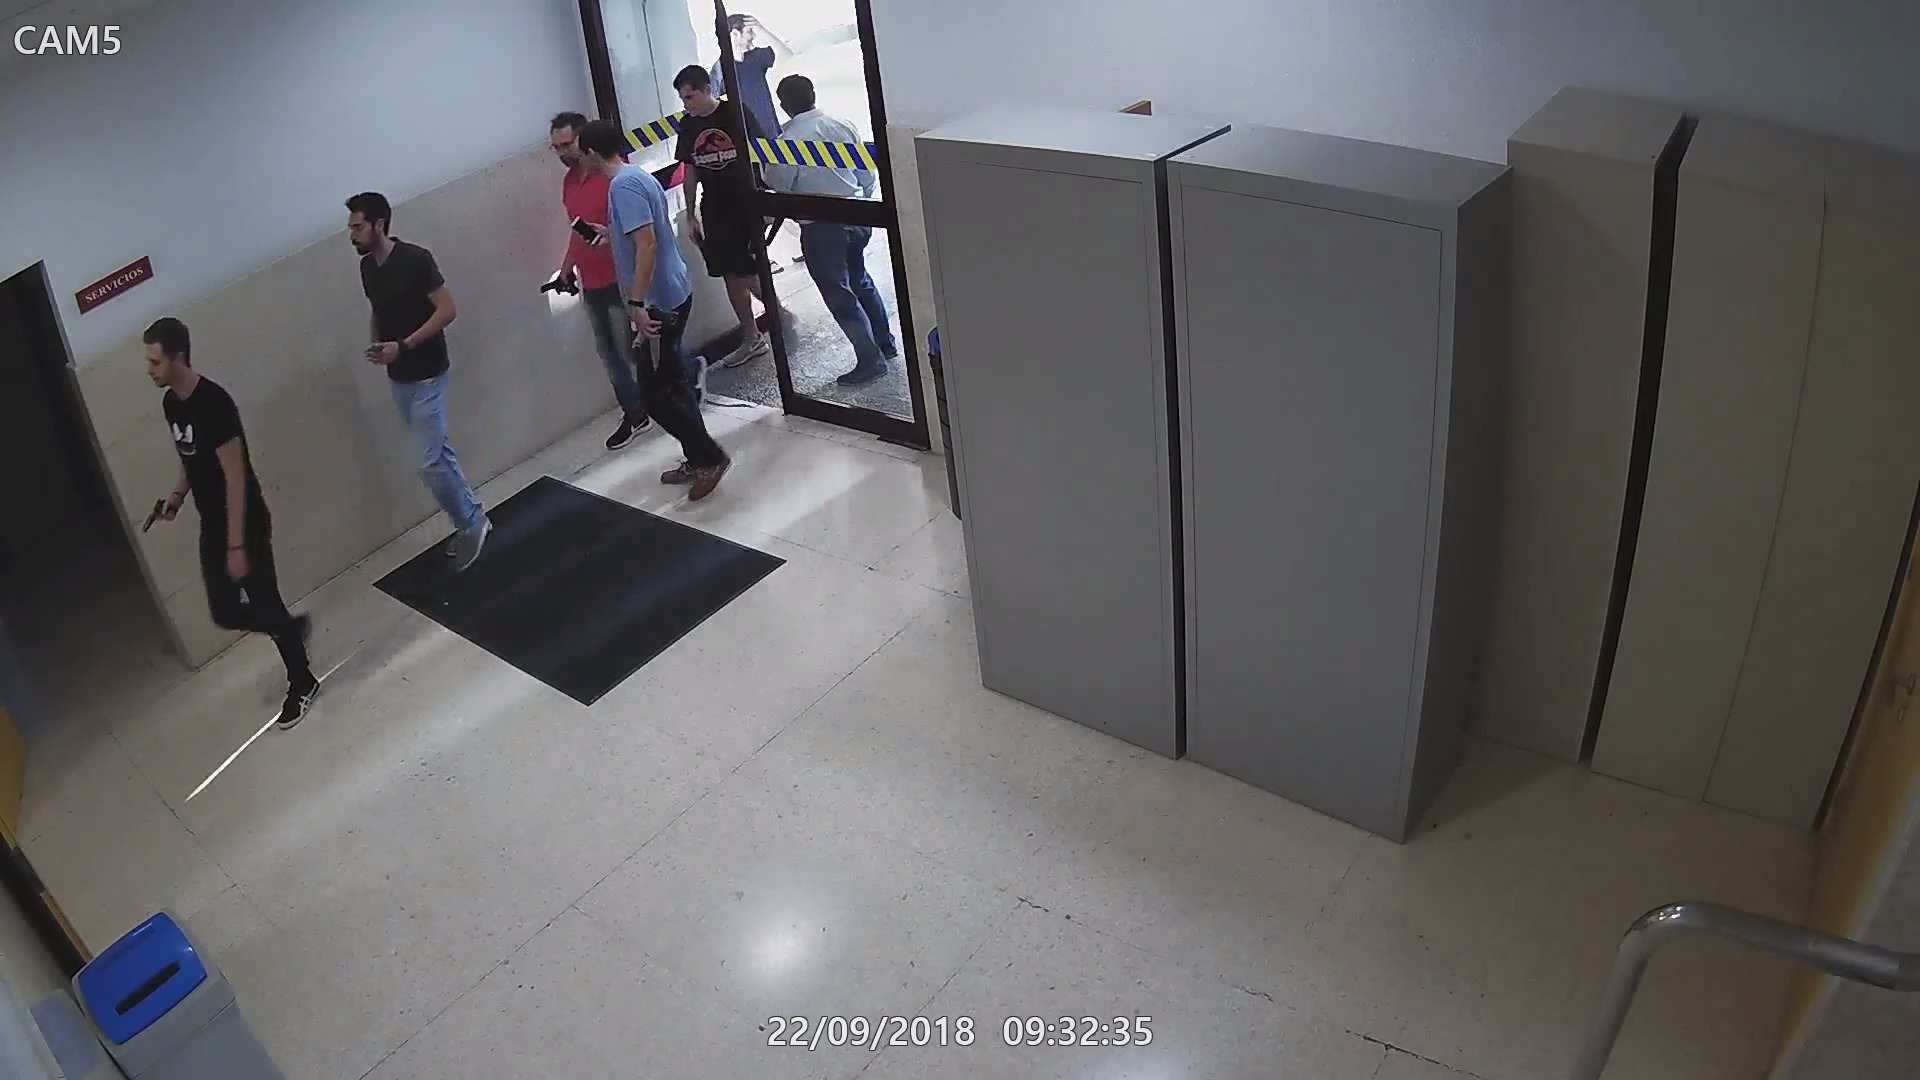Handgun: (632, 301, 680, 353), (138, 491, 181, 541), (535, 272, 583, 305), (682, 220, 713, 258), (355, 338, 396, 364)
Knife: (640, 306, 667, 371)
